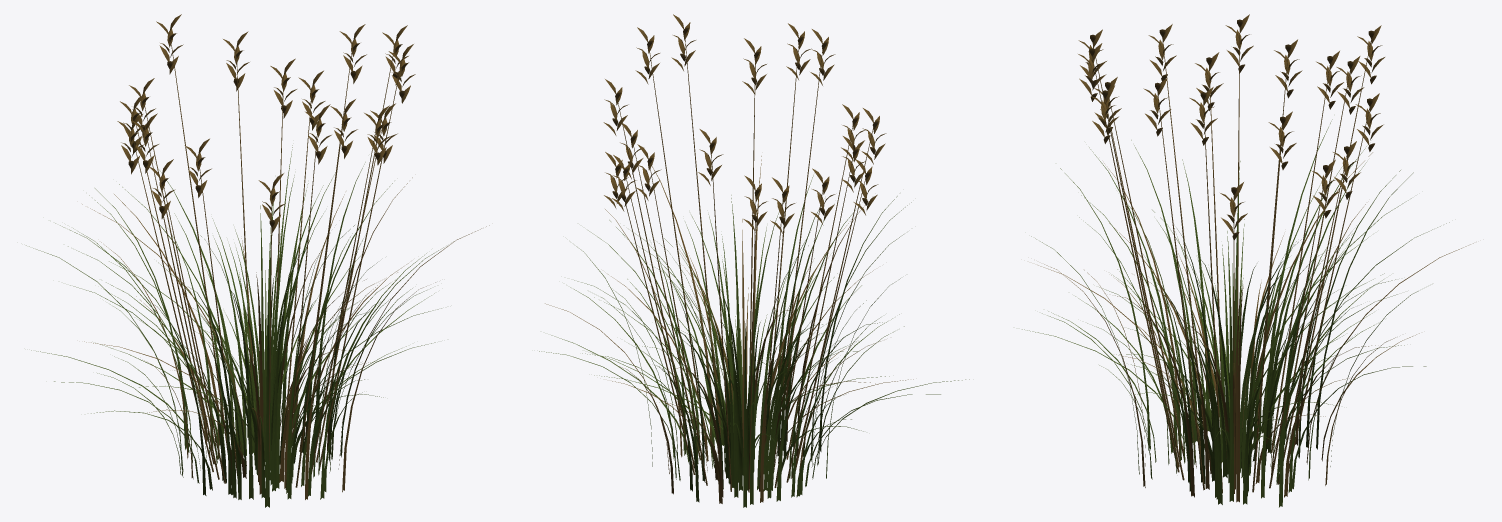
Rendered from TallMeadowGrass_A.fbx.
The picture shows the model from 3 angles, left to right: view 1: azimuth 30°, elevation 25°; view 2: azimuth 150°, elevation 25°; view 3: azimuth 270°, elevation 25°; orthographic projection. The views are drawn at different scales.
Parts seen in each view (by area): view 1: TallMeadowGrass_A_LOD0; view 2: TallMeadowGrass_A_LOD0; view 3: TallMeadowGrass_A_LOD0.
Boxes of the visible parts, bbox=[...] form: TallMeadowGrass_A_LOD0: bbox=[26, 14, 489, 507]; TallMeadowGrass_A_LOD0: bbox=[539, 14, 969, 507]; TallMeadowGrass_A_LOD0: bbox=[1022, 14, 1473, 507].
Size of what is drawn, in the model's own units: 1.44 by 1.41 by 1.39.
